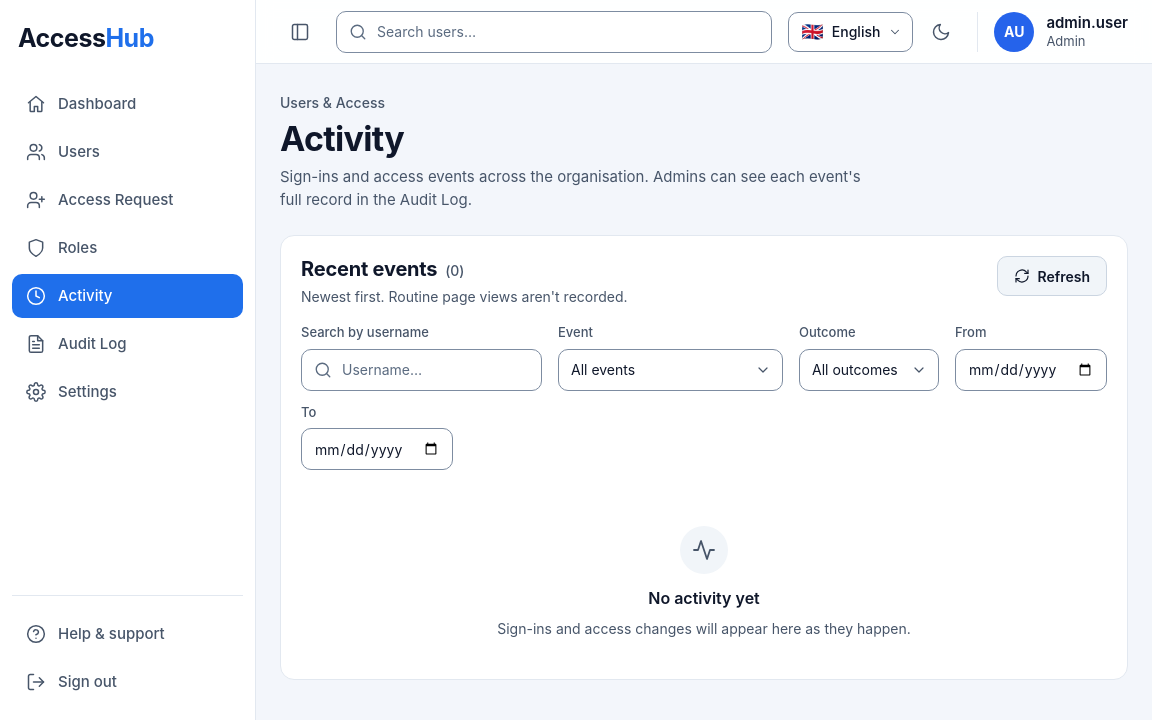
it: Activity — feed › distinguishes no matches from an empty feed
Expected: the text "No activity yet" is shown, [648,586,760,610]
Select "Denied" in the dropdown labelled "Outcome" at (869, 370), box [799,349,939,391]
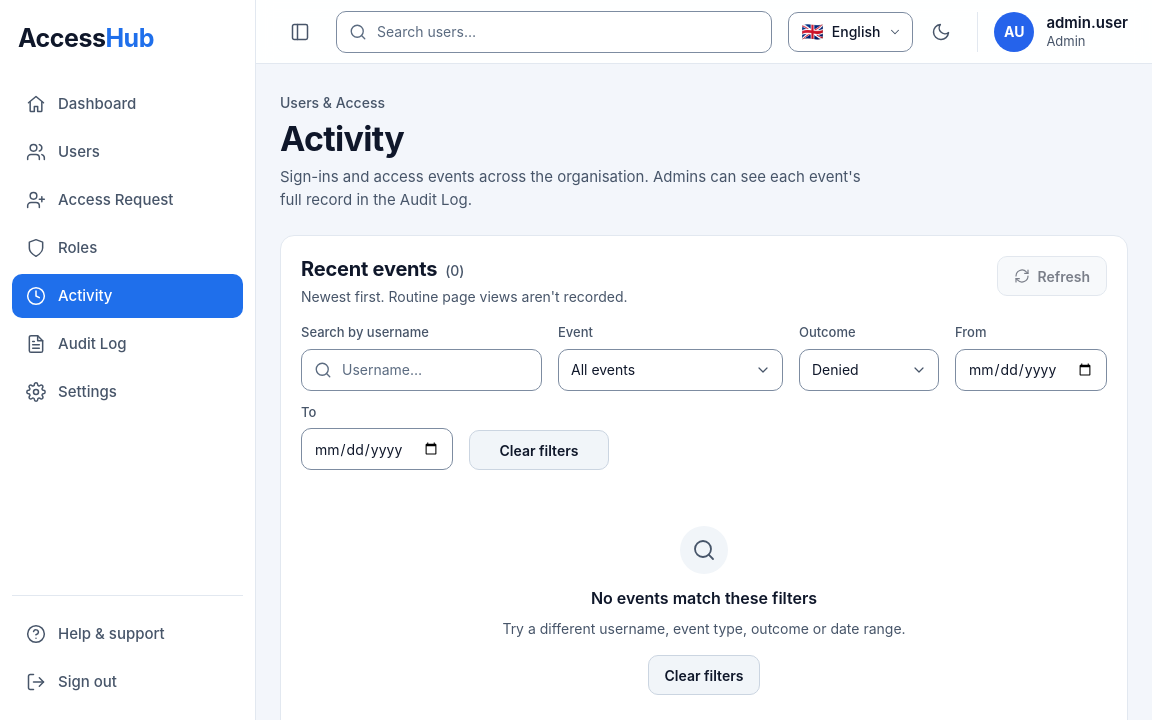
Result: the text "No events match these filters" is shown at [591,586,817,610]
Click the button "Clear filters" below "No events match these filters".
click(704, 675)  # box [648,655,760,695]
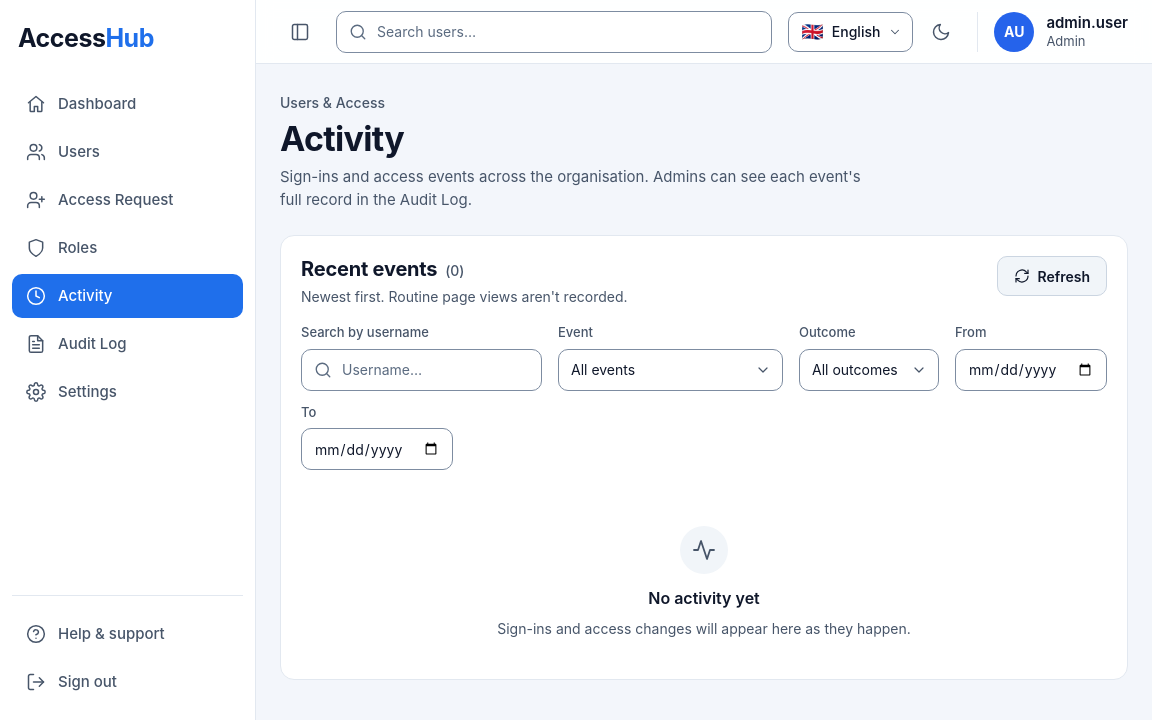
Result: the text "No activity yet" is shown at [648,586,760,610]
